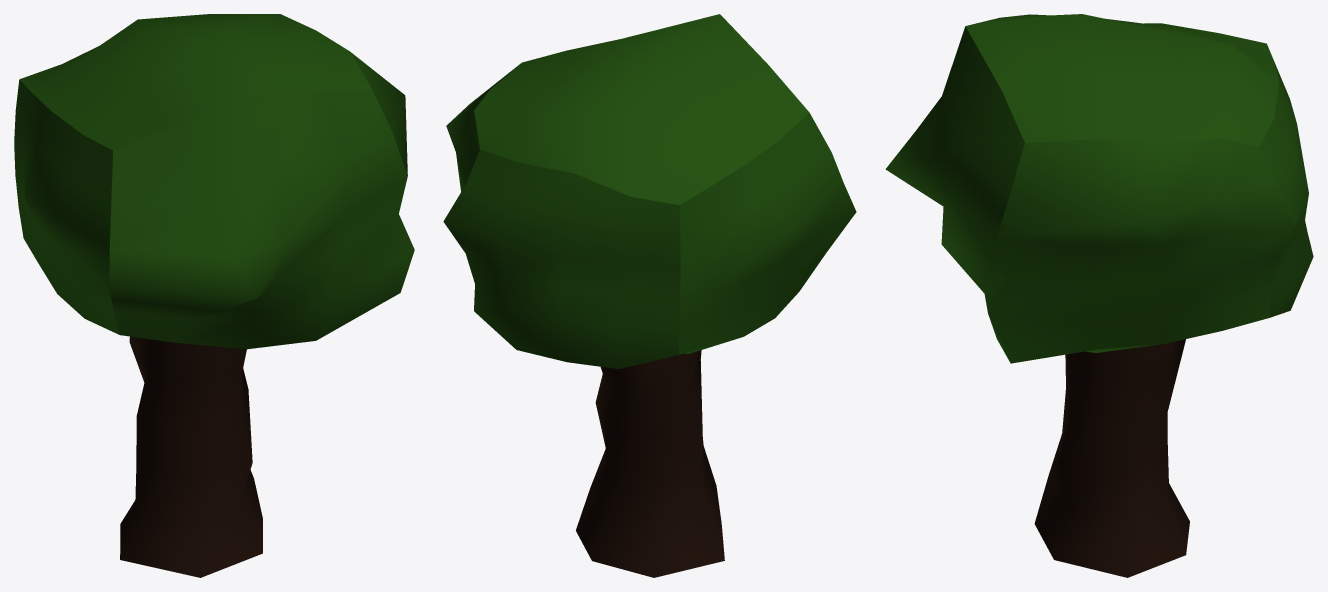
File: Tree(colour).fbx
The picture shows the model from 3 angles, left to right: view 1: azimuth 30°, elevation 25°; view 2: azimuth 150°, elevation 25°; view 3: azimuth 270°, elevation 25°; orthographic projection. The views are drawn at different scales.
Visible parts, largest first — view 1: Box001, Cylinder001; view 2: Box001, Cylinder001; view 3: Box001, Cylinder001.
Boxes of the visible parts, left/top/right/bottom form: Box001: left=14, top=14, right=414, bottom=349; Cylinder001: left=120, top=336, right=262, bottom=577; Box001: left=443, top=14, right=856, bottom=369; Cylinder001: left=576, top=350, right=724, bottom=577; Box001: left=885, top=14, right=1313, bottom=363; Cylinder001: left=1034, top=339, right=1189, bottom=577.
Size of the model in its own units: 62.9 by 86.77 by 64.15.
